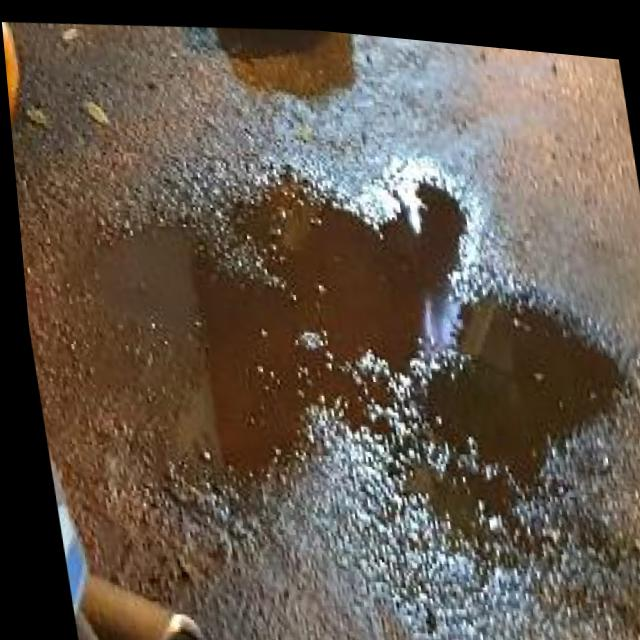puddle: (68, 133, 640, 568)
